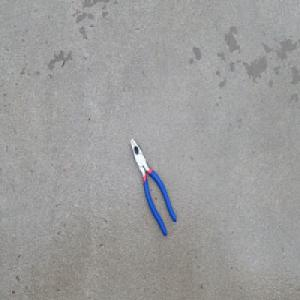Pliers: (128, 135, 177, 239)
